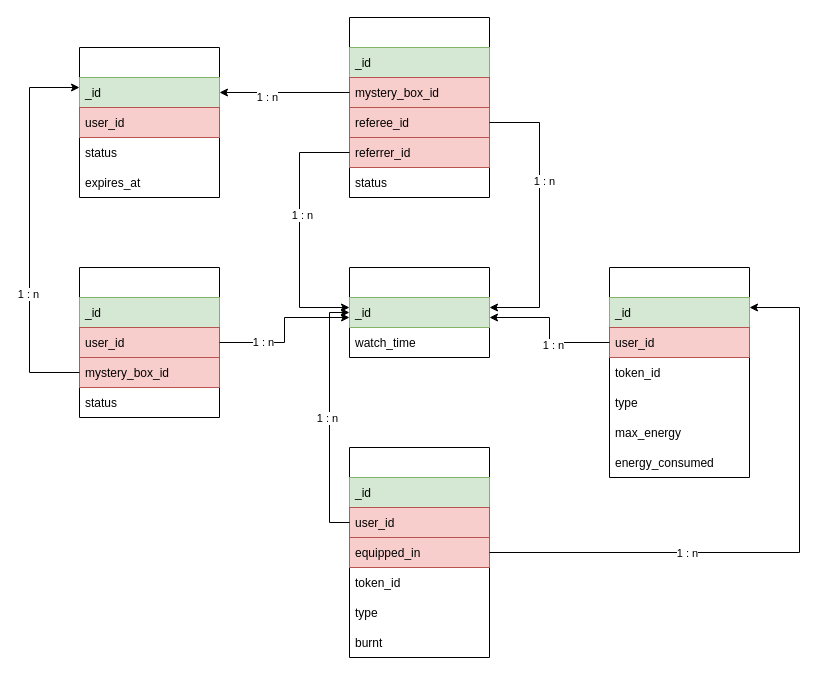
Some shapes in this 825 by 675 pixel diagram are drawn without their labels. The box of each missing label's shape, as (x1, y1, x2, y2) in pixels:
Gem: (348, 446, 490, 658)
Glasses: (608, 266, 750, 478)
Mystery Box: (78, 46, 220, 198)
Recharge Voucher: (78, 266, 220, 418)
Referral: (348, 16, 490, 198)
User: (348, 266, 490, 358)
